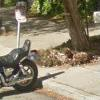Motorcycle: (0, 39, 43, 93)
